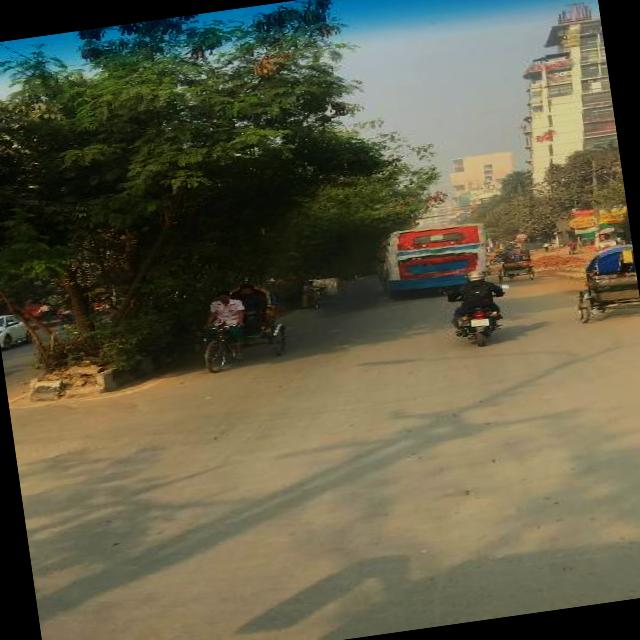bus: (374, 216, 493, 303)
car: (0, 310, 35, 349)
motorcycle: (186, 280, 290, 380), (440, 267, 516, 352), (570, 242, 640, 323), (298, 274, 346, 310), (497, 246, 539, 284), (490, 246, 518, 264)
